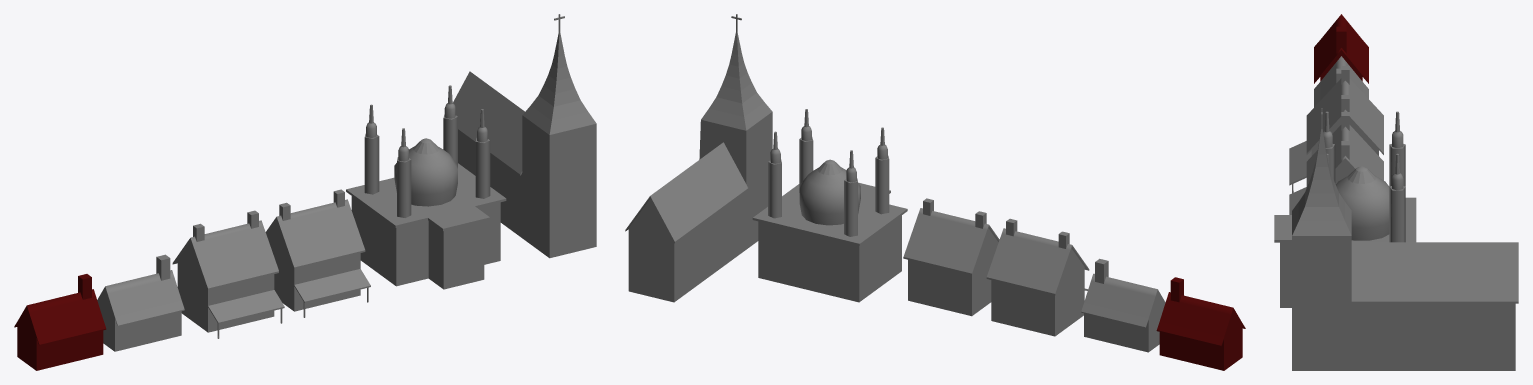
The model's file is LP_houses_pack_fbx.FBX.
3 renders of one model, left to right at view 1: azimuth 30°, elevation 25°; view 2: azimuth 150°, elevation 25°; view 3: azimuth 270°, elevation 25°, orthographic. The views are drawn at different scales.
Parts seen in each view (by area): view 1: House2, house4, House3, House5, House1, House6; view 2: house4, House2, House3, House5, House1, House6; view 3: house4, House2, House3, House5, House1, House6.
Part boxes in pixels (x1,y1,x2,y2): House2: (346, 85, 506, 289); house4: (453, 33, 596, 258); House3: (172, 210, 284, 338); House5: (265, 189, 370, 317); House1: (14, 274, 106, 370); House6: (97, 254, 184, 351); house4: (625, 32, 772, 302); House2: (752, 109, 907, 302); House3: (986, 218, 1089, 336); House5: (903, 198, 999, 316); House1: (1156, 277, 1245, 370); House6: (1081, 258, 1165, 352); house4: (1292, 129, 1518, 370); House2: (1274, 111, 1416, 307); House3: (1289, 66, 1383, 193); House5: (1289, 112, 1383, 214); House1: (1314, 14, 1368, 83); House6: (1314, 56, 1368, 107).
Bounding box in the file's own units: 3414 × 1355 × 1200.
